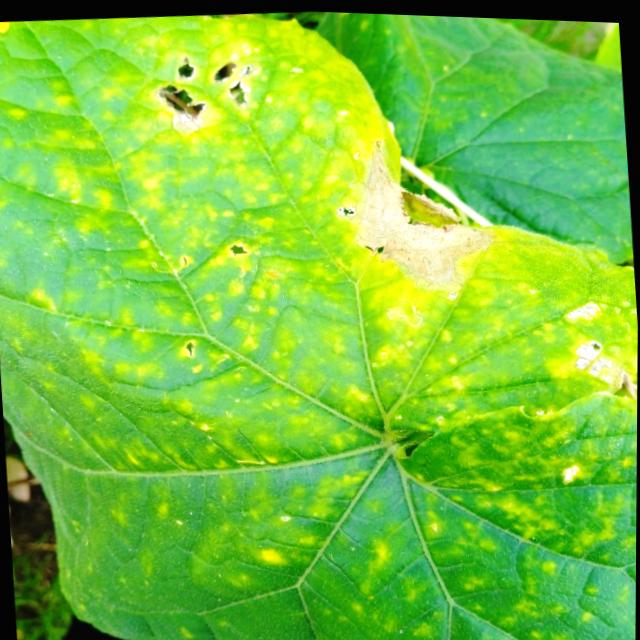Anthracnose: (150, 44, 259, 137)
